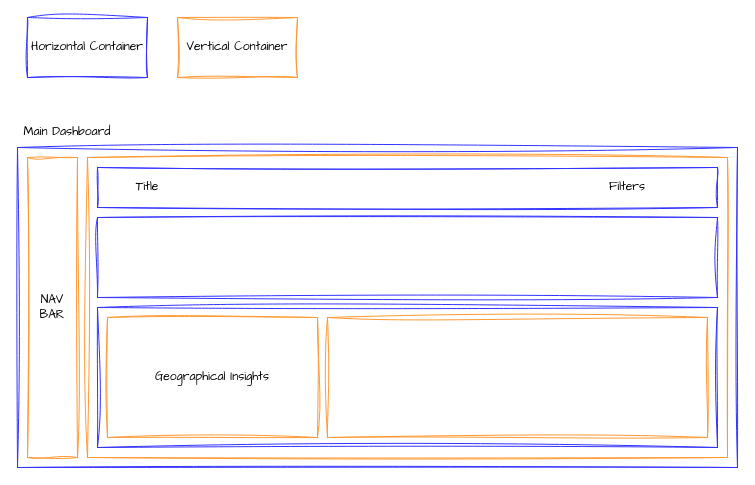
Some shapes in this 755 by 485 pixel diagram are drawn without their labels. The shapes that lost their labels are listed below. From the top down, each one's centre as x and y in pixels, then its label:
At (407,257): "KPIs".
At (517,377): "Sales Insights".
